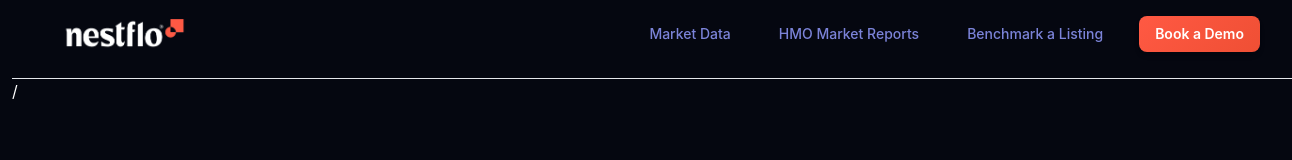
Scenario: Scenario: Nav links are router links, not full-page anchors › routes the SPA to the destination when "Benchmark a Listing" is clicked
This screenshot has width=1292, height=160.
Click the link "Benchmark a Listing" at (1035, 34), box top-left (967, 25), bottom-right (1103, 42)
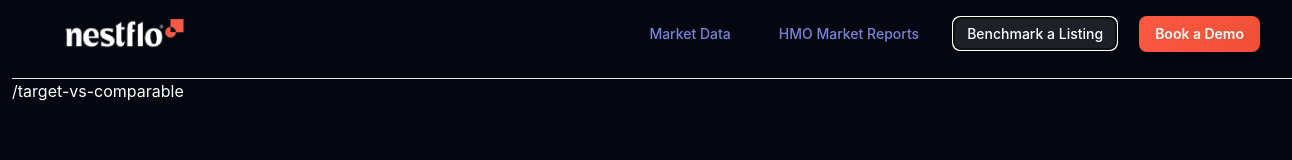
Check: the text with test id "location-probe" reads "/target-vs-comparable", box top-left (12, 81), bottom-right (184, 101)
